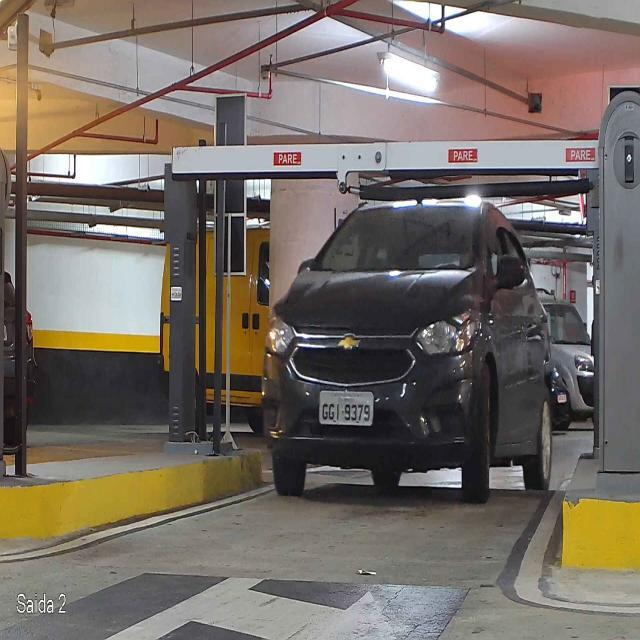old_plate: (318, 389, 375, 427)
